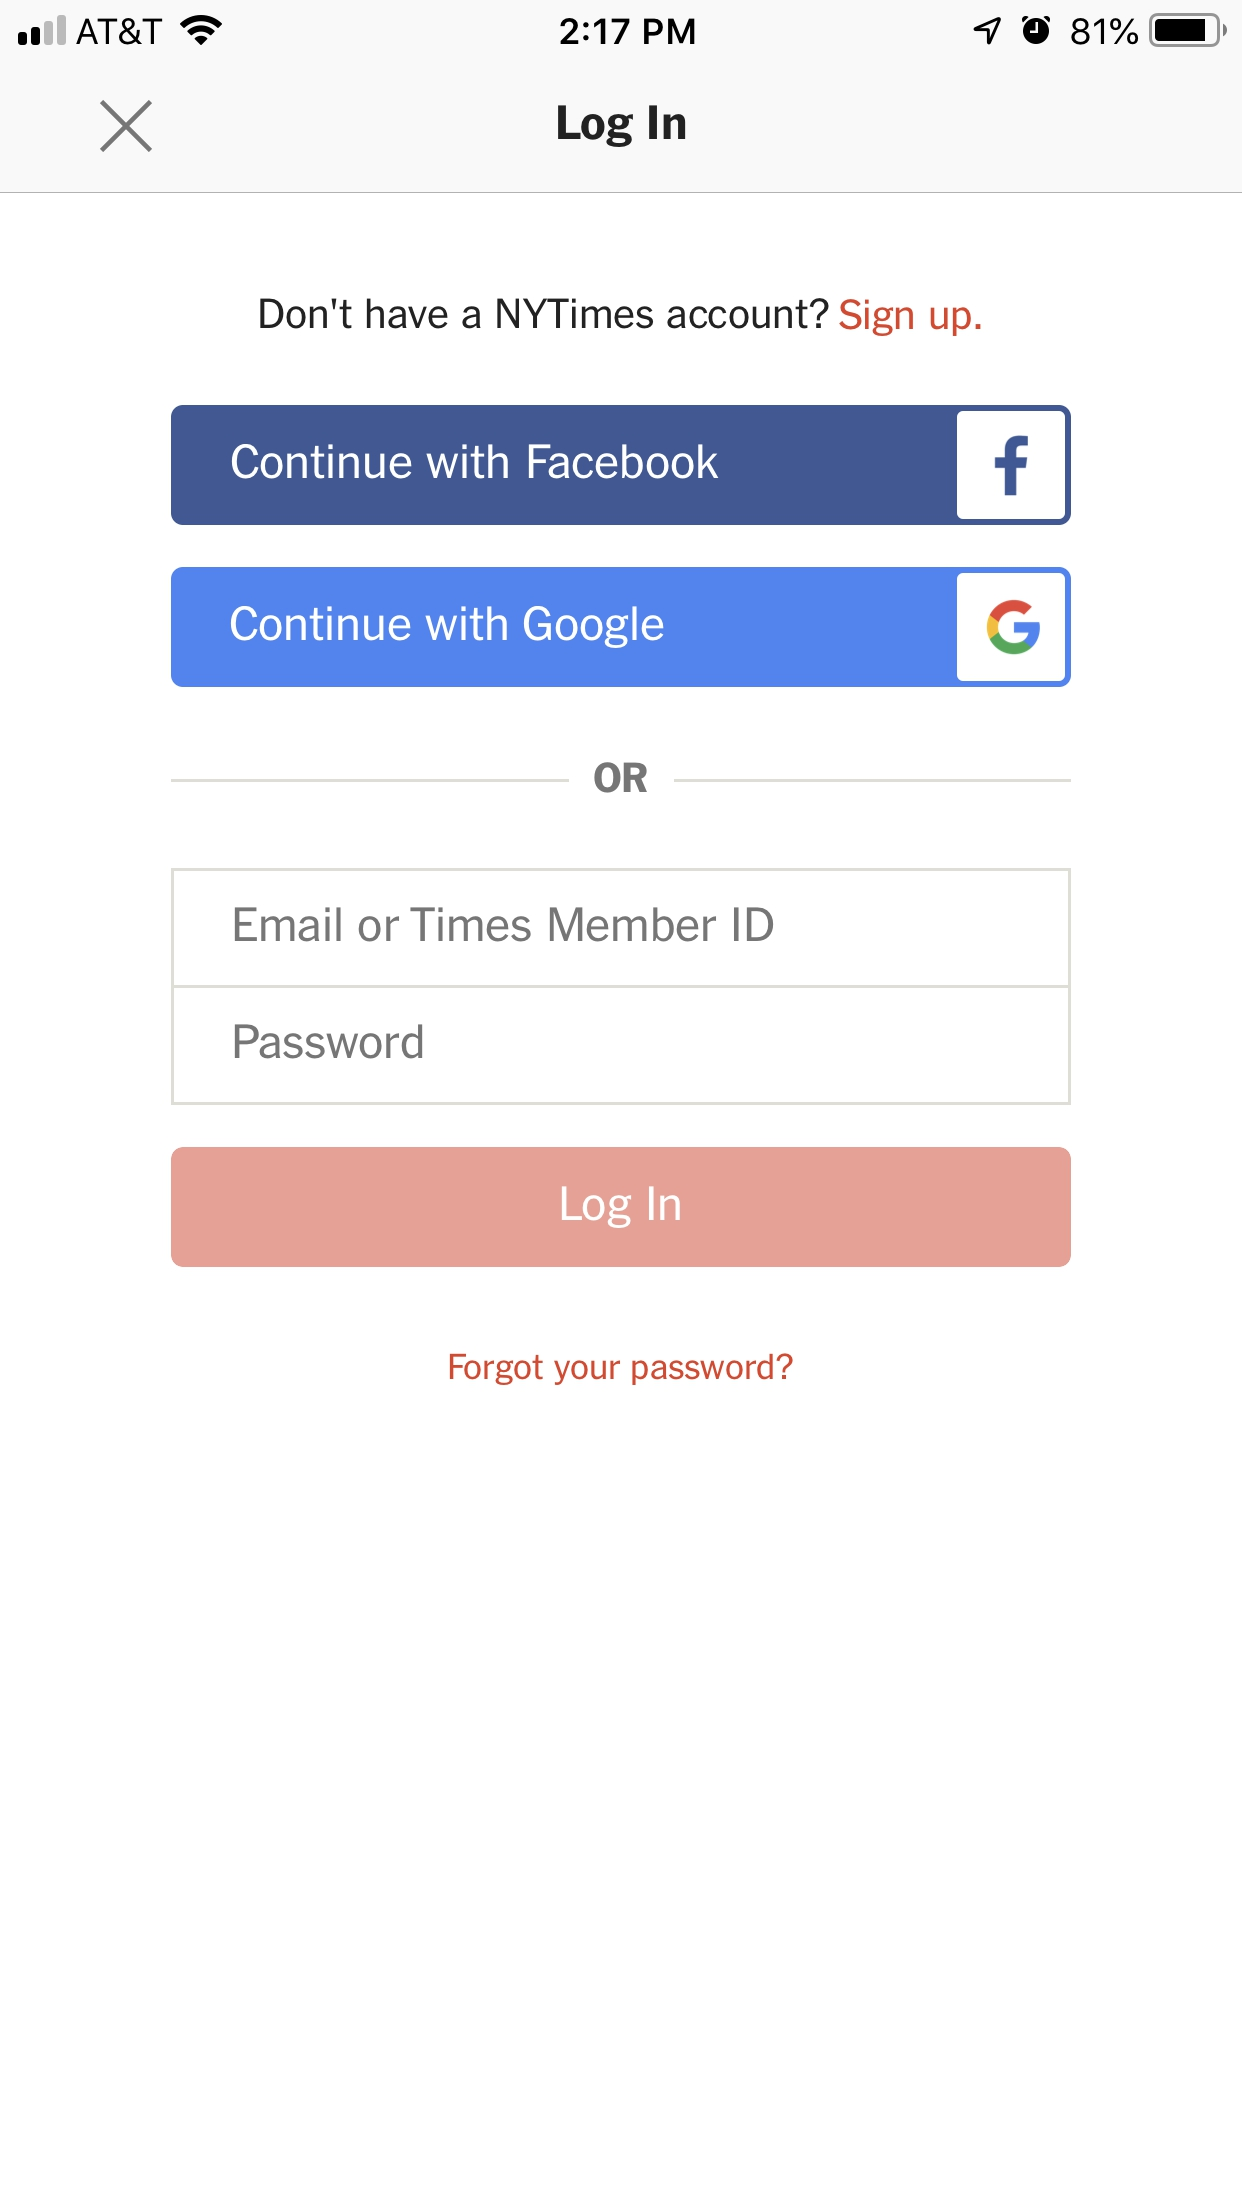EditText: (171, 986, 1071, 1106), (171, 869, 1071, 989)
Icon: (100, 100, 153, 153)
Text: (259, 299, 981, 337), (235, 908, 775, 943), (450, 1353, 795, 1386), (235, 1025, 425, 1060), (558, 105, 687, 149), (594, 761, 648, 795)
TextButton: (171, 406, 1071, 526), (171, 569, 1071, 688), (171, 1148, 1071, 1268)
UpperTaskBar: (2, 2, 1242, 49)
